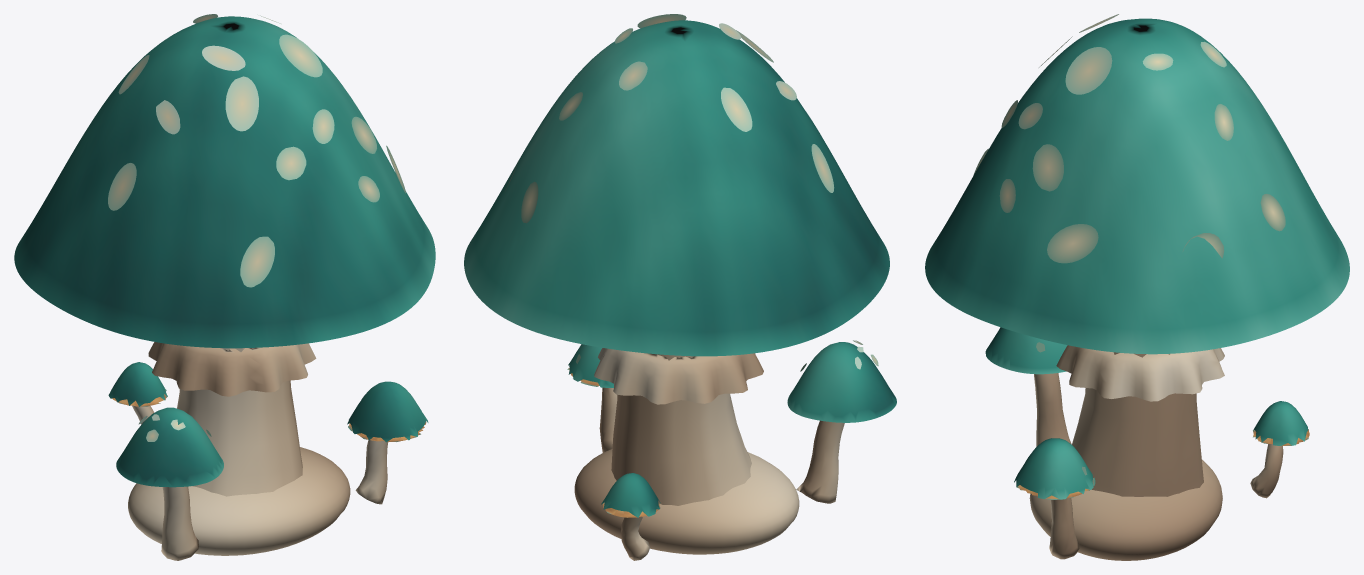
Rendered from magic_mushrooms.glb.
3 views of the same model, side by side, from view 1: azimuth 30°, elevation 25°; view 2: azimuth 150°, elevation 25°; view 3: azimuth 270°, elevation 25° (orthographic).
Visible parts, largest first — view 1: magic_mushrooms, Glow; view 2: magic_mushrooms, Glow; view 3: magic_mushrooms, Glow.
Part boxes in pixels (x1=…): magic_mushrooms: x1=14, y1=16, x2=435, y2=560; Glow: x1=108, y1=14, x2=426, y2=442; magic_mushrooms: x1=464, y1=20, x2=896, y2=560; Glow: x1=505, y1=14, x2=878, y2=517; magic_mushrooms: x1=925, y1=18, x2=1349, y2=560; Glow: x1=973, y1=14, x2=1309, y2=499.
Bounding box in the file's own units: 4.18 × 5.52 × 4.18.
